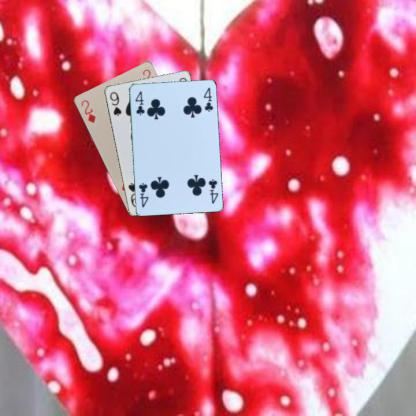2d: (78, 97, 96, 124)
4c: (132, 89, 146, 116), (206, 176, 219, 205)
9s: (107, 89, 122, 117)
